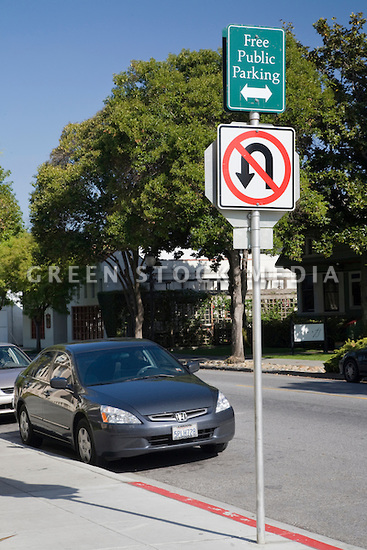No_u_turn: (221, 130, 291, 205)
